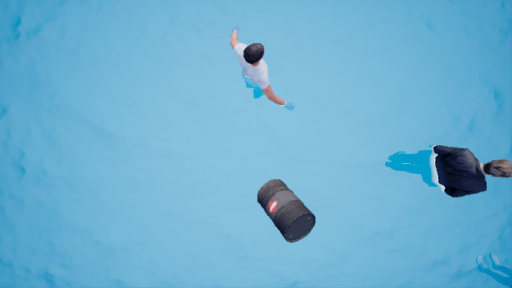person: (367, 129, 504, 205), (230, 29, 295, 114)
